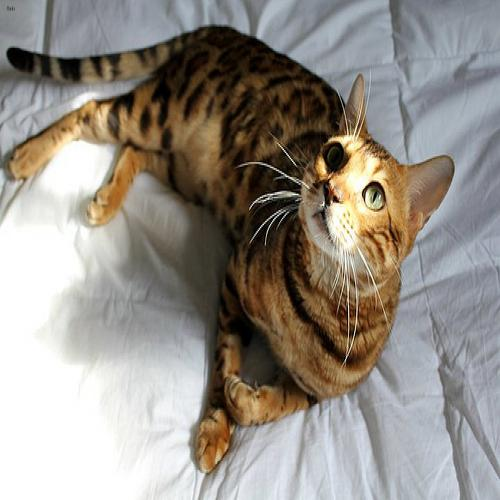bengal: (287, 72, 456, 295)
